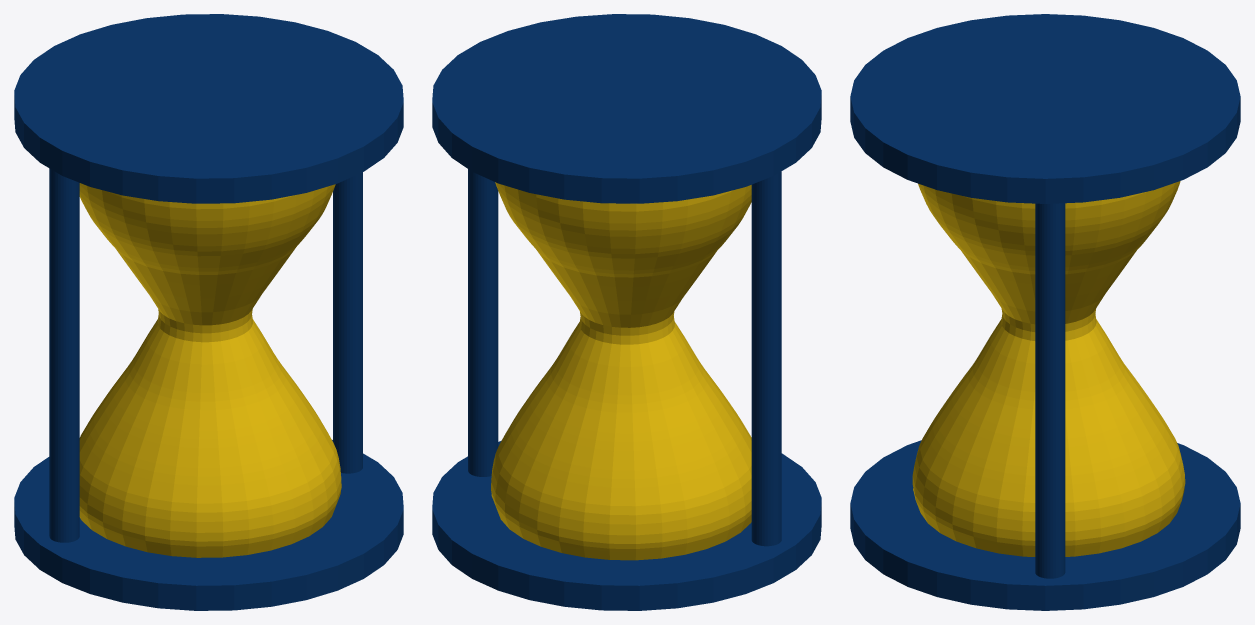
The model's file is relojArena2.0.fbx.
3 views of the same model, side by side, from view 1: azimuth 30°, elevation 25°; view 2: azimuth 150°, elevation 25°; view 3: azimuth 270°, elevation 25° (orthographic).
Visible parts, largest first — view 1: Cylinder.006, Cylinder.002; view 2: Cylinder.006, Cylinder.002; view 3: Cylinder.006, Cylinder.002.
Part boxes in pixels (bbox=[...]): Cylinder.006: bbox=[14, 14, 403, 610]; Cylinder.002: bbox=[79, 183, 341, 557]; Cylinder.006: bbox=[432, 14, 821, 610]; Cylinder.002: bbox=[491, 182, 751, 560]; Cylinder.006: bbox=[850, 14, 1240, 610]; Cylinder.002: bbox=[912, 181, 1185, 556].
Size of the model in its own units: 107 by 130 by 107.
1 material, 1 textured.
